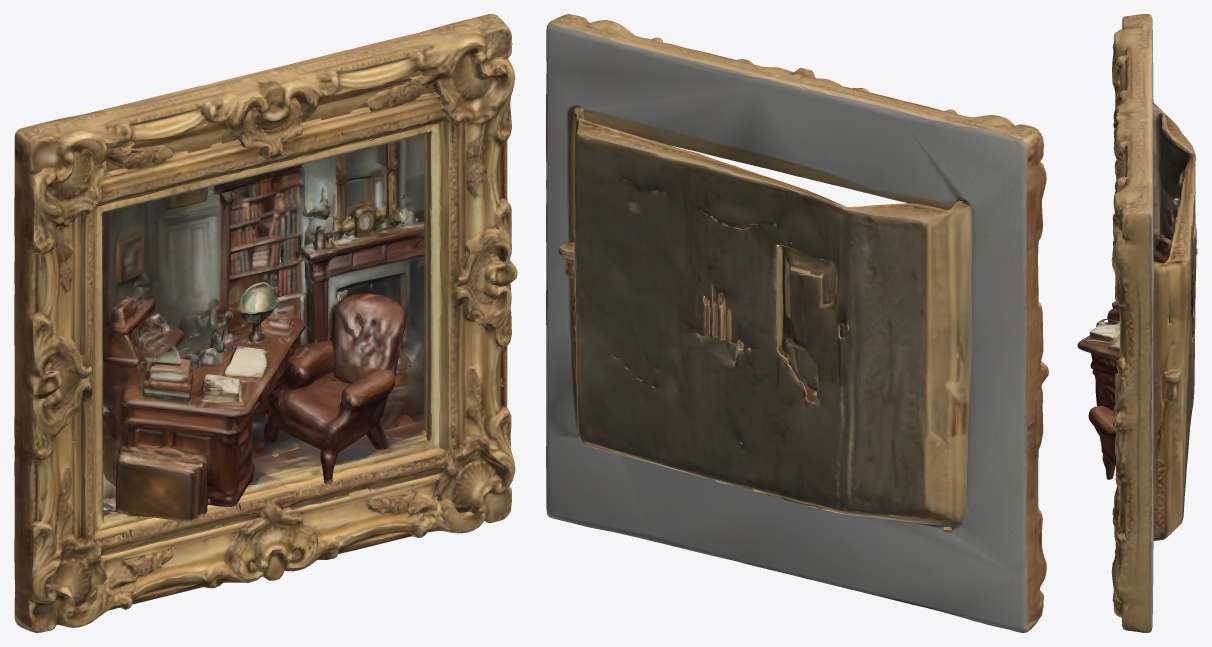
Rendered from obj_study_painting.glb.
3 renders of one model, left to right at view 1: azimuth 30°, elevation 25°; view 2: azimuth 150°, elevation 25°; view 3: azimuth 270°, elevation 25°, orthographic. The views are drawn at different scales.
Parts seen in each view (by area): view 1: geometry_0; view 2: geometry_0; view 3: geometry_0.
Boxes of the visible parts, x1=… form: geometry_0: x1=14, y1=14, x2=517, y2=632; geometry_0: x1=546, y1=14, x2=1048, y2=632; geometry_0: x1=1077, y1=14, x2=1197, y2=632.
Bounding box in the file's own units: 0.6 × 0.5865 × 0.151.
Materials: 1 (1 with a texture image).
